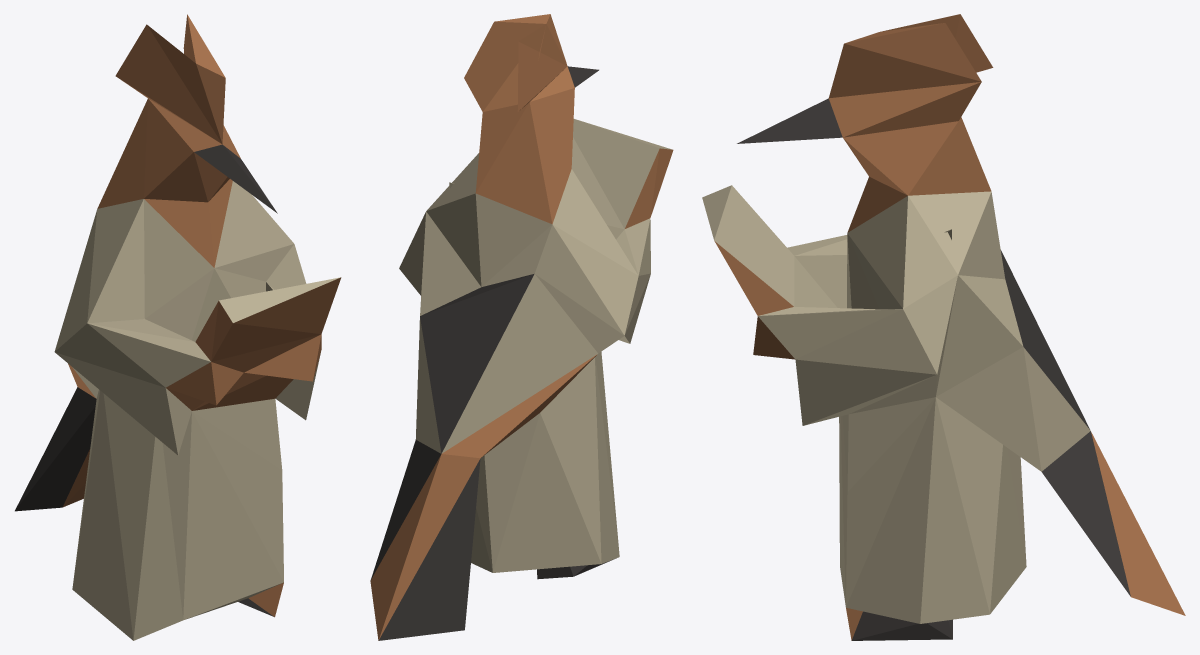
The picture shows the model from 3 angles, left to right: view 1: azimuth 30°, elevation 25°; view 2: azimuth 150°, elevation 25°; view 3: azimuth 270°, elevation 25°; orthographic projection. The views are drawn at different scales.
Parts seen in each view (by area): view 1: lion-200.001; view 2: lion-200.001; view 3: lion-200.001.
Part boxes in pixels (bbox=[...]): lion-200.001: bbox=[15, 14, 341, 640]; lion-200.001: bbox=[370, 14, 673, 640]; lion-200.001: bbox=[702, 14, 1185, 640].
Bounding box in the file's own units: 0.4399 × 1.01 × 0.7444.
